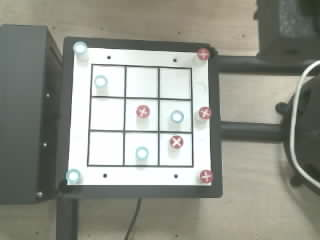blue circle: (66, 169, 80, 183), (136, 147, 149, 161), (73, 41, 87, 54), (170, 110, 183, 122), (94, 75, 107, 87)
board: (66, 45, 214, 187)
cells: (89, 132, 122, 164), (125, 133, 157, 165), (125, 99, 157, 130), (91, 98, 123, 129), (126, 67, 158, 98), (160, 134, 191, 165), (160, 100, 191, 131), (92, 66, 124, 96), (160, 68, 190, 98)
grid: (87, 64, 193, 167)
red cross: (136, 105, 149, 118), (199, 107, 212, 120), (170, 136, 183, 148), (200, 170, 212, 183), (197, 48, 209, 60)
